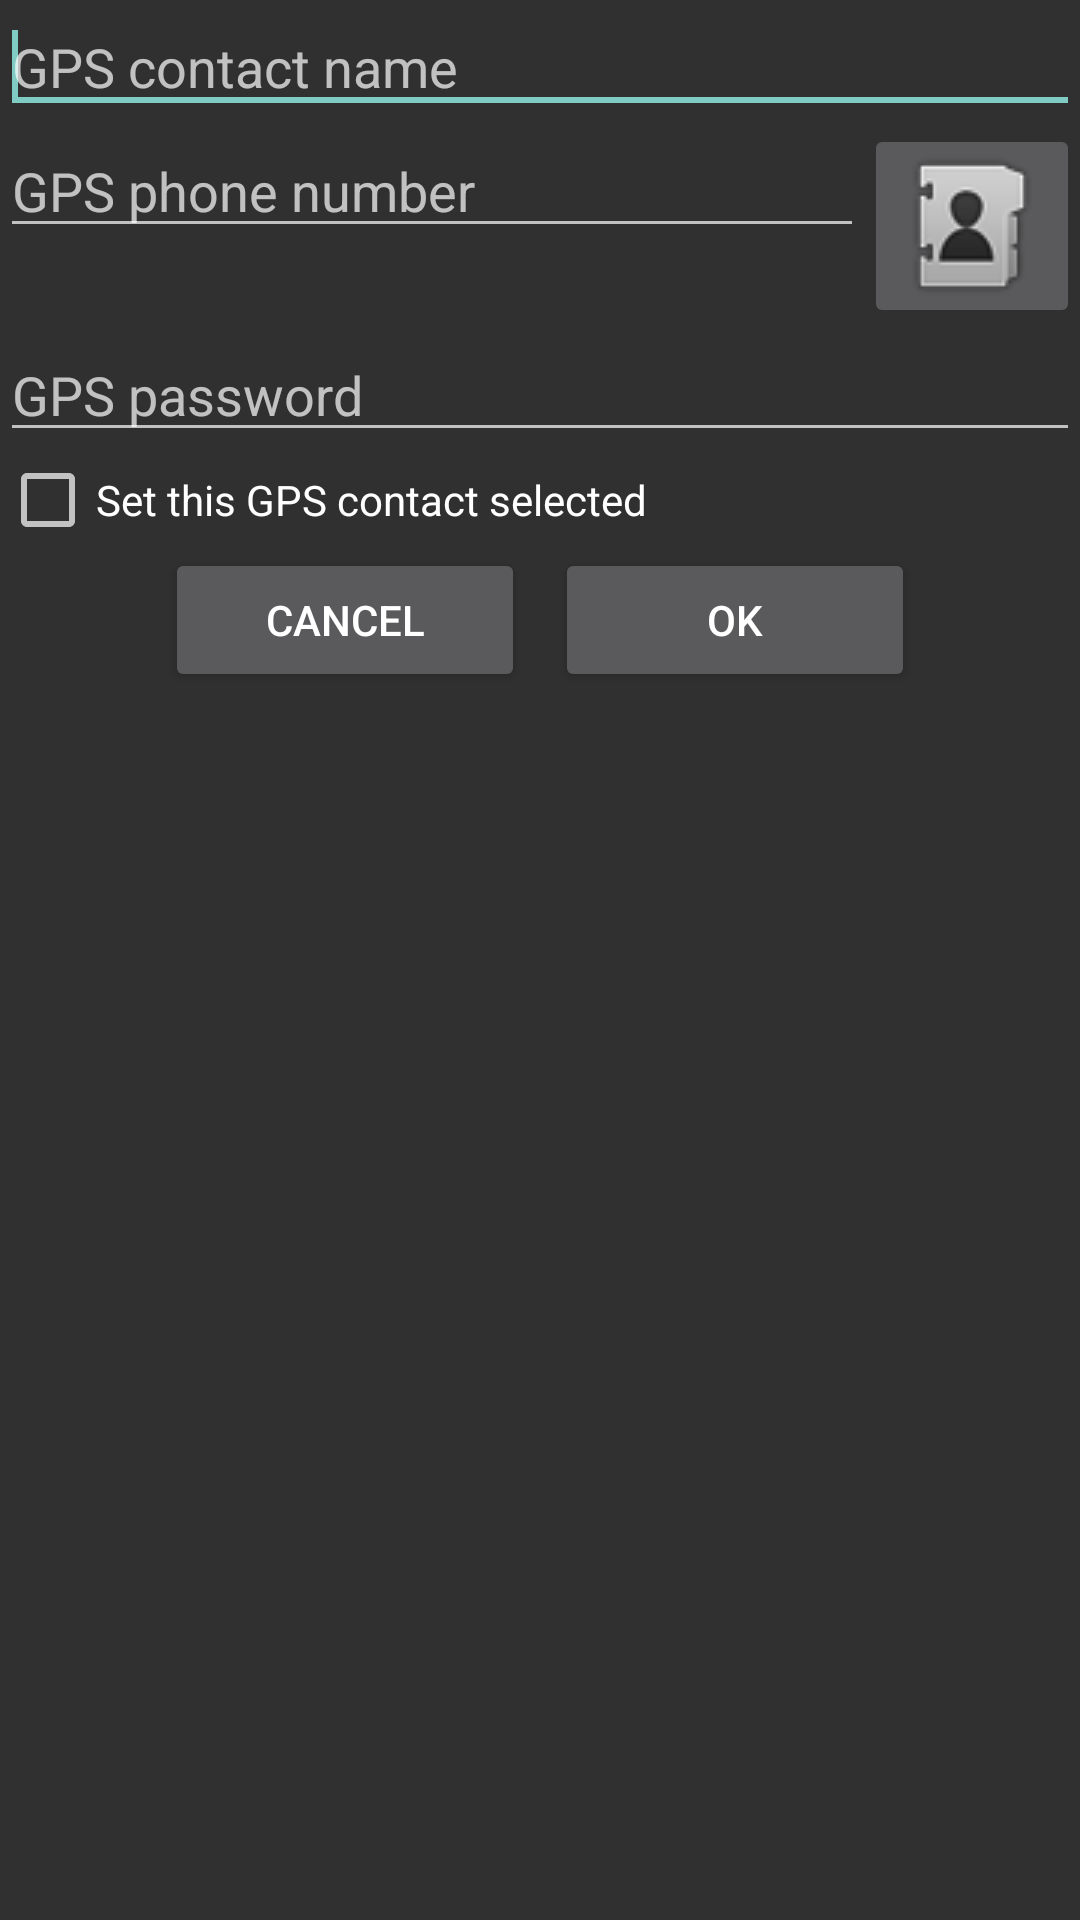

Icons on this 1080×1920 Android screen, each with its box as (x1, y1, x2, y2):
contacts: (876, 142, 1068, 310)
